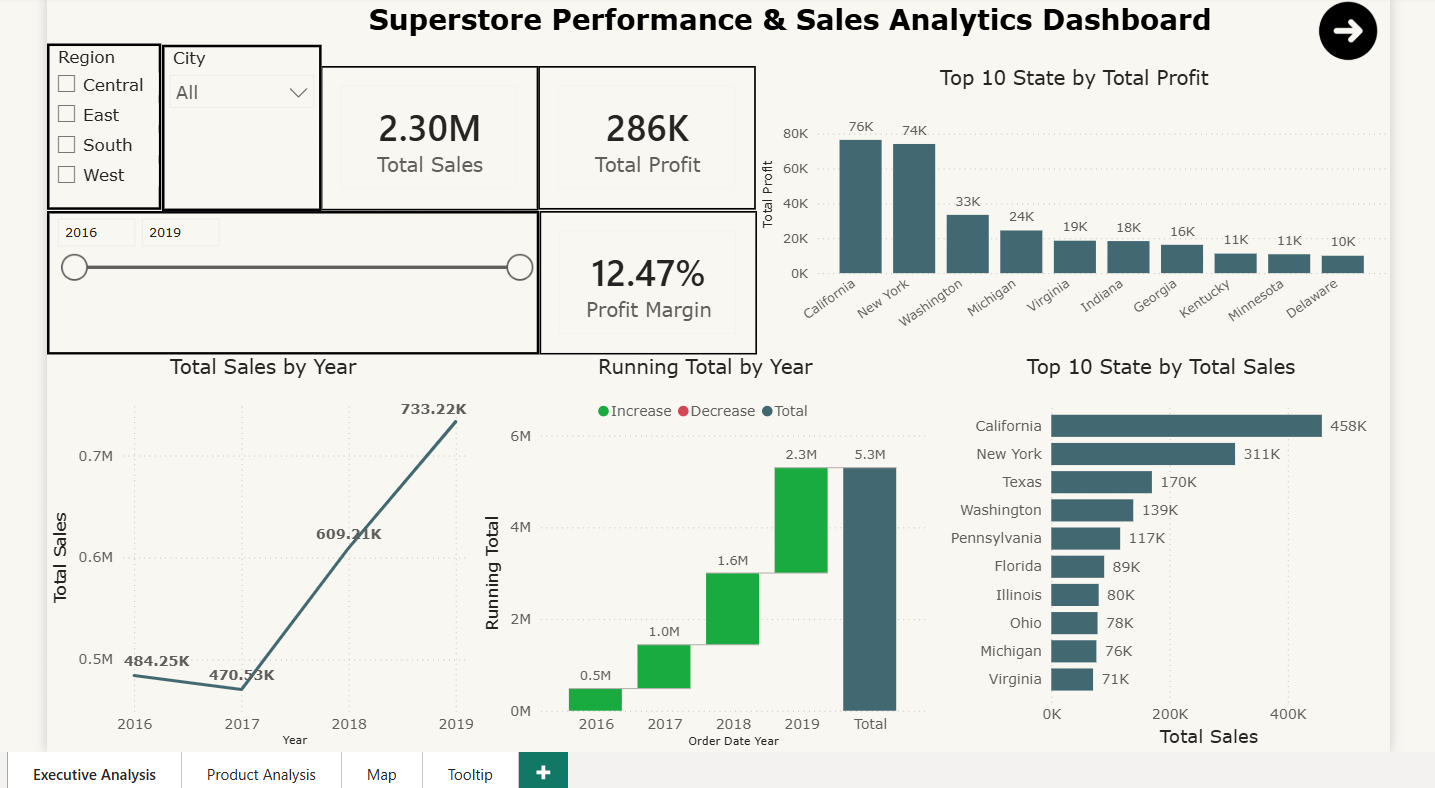

The page's visual inventory and layout, read from the dashboard file:
{"tool":"powerbi","page":{"name":"Executive Analysis","canvas":[1280,720],"ordinal":0},"visuals":[{"type":"cardVisual","fields":{"Data":["Matrix.total_sales"]},"box":[260.7,66.7,207.2,137.2],"z":0},{"type":"cardVisual","fields":{"Data":["Matrix.total_profit"]},"box":[467.9,66.7,207,137],"z":1000},{"type":"cardVisual","fields":{"Data":["Matrix.profit_margin"]},"box":[468.6,204.3,207.2,137],"z":2000},{"type":"slicer","fields":{"Values":["Orders.Order Date.Variation.Date Hierarchy.Year"]},"box":[0,204.3,468.6,137.1],"z":3000},{"type":"slicer","fields":{"Values":["Orders.Region"]},"box":[0,45.7,108.6,158.6],"z":4000},{"type":"lineChart","fields":{"Category":["Orders.Order Date.Variation.Date Hierarchy.Year","Orders.Order Date.Variation.Date Hierarchy.Quarter","Orders.Order Date.Variation.Date Hierarchy.Month","Orders.Order Date.Variation.Date Hierarchy.Day"],"Y":["Matrix.total_sales"]},"box":[0,341.4,411.4,378.6],"z":5000},{"type":"clusteredBarChart","title":"Top 10 State by Total Sales","fields":{"Category":["Orders.State"],"Y":["Matrix.total_sales"]},"box":[841.4,341.4,438.6,378.6],"z":6000},{"type":"clusteredColumnChart","title":"Top 10 State by Total Profit","fields":{"Category":["Orders.State"],"Y":["Matrix.total_profit"]},"box":[675.7,67.1,604.3,274.3],"z":7000},{"type":"image","box":[1198.8,0,81,66.7],"z":8000},{"type":"textbox","box":[289.3,0,836.9,51.2],"z":9000},{"type":"waterfallChart","fields":{"Category":["Orders.Order Date.Variation.Date Hierarchy.Year","Orders.Order Date.Variation.Date Hierarchy.Quarter","Orders.Order Date.Variation.Date Hierarchy.Month","Orders.Order Date.Variation.Date Hierarchy.Day"],"Y":["Matrix.running_total"]},"box":[411.4,341.4,430,378.6],"z":10000},{"type":"slicer","fields":{"Values":["Orders.City"]},"box":[109,46,152,158],"z":11000}]}

Visuals, with their boxes on the page's 1280x720 design canvas (x1, y1, x2, y2). These are canvas units, not pixel positions in the 1435x788 screenshot, which may show the page scaled, cropped or inside an application window:
cardVisual - Matrix.total_sales: x1=261, y1=67, x2=468, y2=204
cardVisual - Matrix.total_profit: x1=468, y1=67, x2=675, y2=204
cardVisual - Matrix.profit_margin: x1=469, y1=204, x2=676, y2=341
slicer - Orders.Order Date.Variation.Date Hierarchy.Year: x1=0, y1=204, x2=469, y2=341
slicer - Orders.Region: x1=0, y1=46, x2=109, y2=204
lineChart - Orders.Order Date.Variation.Date Hierarchy.Year x Orders.Order Date.Variation.Date Hierarchy.Quarter: x1=0, y1=341, x2=411, y2=720
"Top 10 State by Total Sales" clusteredBarChart: x1=841, y1=341, x2=1280, y2=720
"Top 10 State by Total Profit" clusteredColumnChart: x1=676, y1=67, x2=1280, y2=341
image: x1=1199, y1=0, x2=1280, y2=67
textbox: x1=289, y1=0, x2=1126, y2=51
waterfallChart - Orders.Order Date.Variation.Date Hierarchy.Year x Orders.Order Date.Variation.Date Hierarchy.Quarter: x1=411, y1=341, x2=841, y2=720
slicer - Orders.City: x1=109, y1=46, x2=261, y2=204
